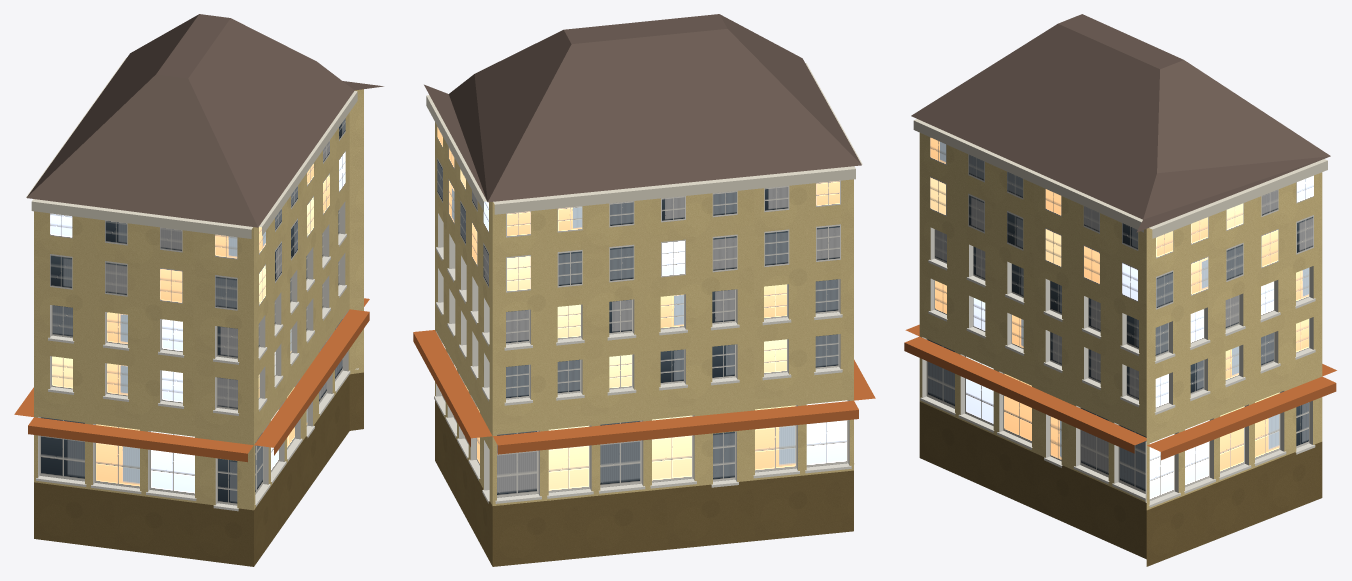
Rendered from z2_acker52.glb.
The picture shows the model from 3 angles, left to right: view 1: azimuth 30°, elevation 25°; view 2: azimuth 150°, elevation 25°; view 3: azimuth 270°, elevation 25°; orthographic projection. The views are drawn at different scales.
Visible parts, largest first — view 1: z2_acker52; view 2: z2_acker52; view 3: z2_acker52.
Part boxes in pixels (left/top/right/bottom): z2_acker52: left=14, top=14, right=383, bottom=566; z2_acker52: left=413, top=14, right=875, bottom=566; z2_acker52: left=904, top=14, right=1336, bottom=566.
Bounding box in the file's own units: 21.57 × 23.16 × 20.84.
3 materials, 3 textured.
